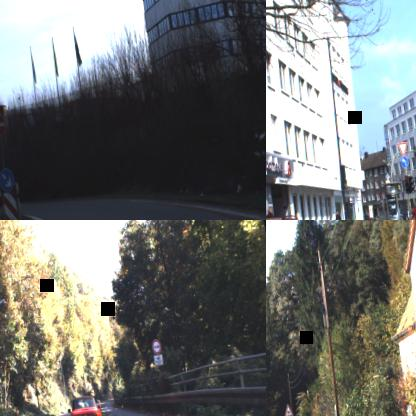NO ENTRY: (0, 111, 6, 136)
give way: (396, 140, 408, 157)
go left or straight: (400, 154, 408, 168)
keep right: (0, 166, 15, 193)
no overtaking (trucks): (150, 338, 162, 355)
slippery road: (282, 402, 293, 416)
